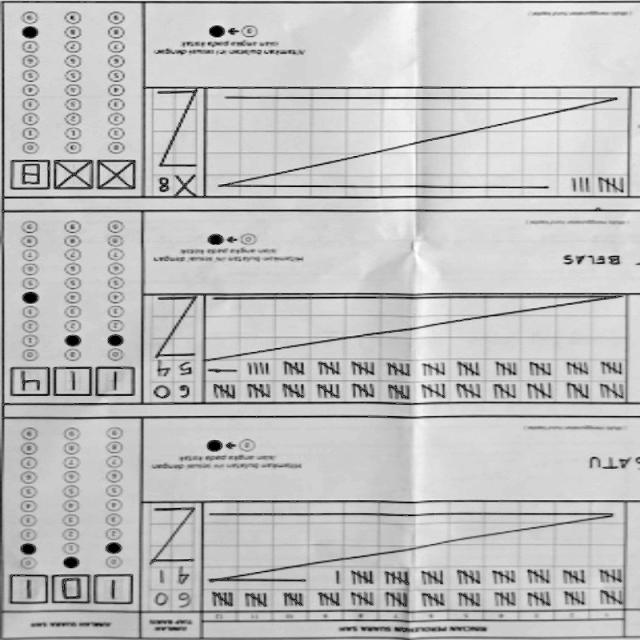Suara: (4, 570, 138, 608), (8, 365, 141, 403), (7, 158, 140, 196)
